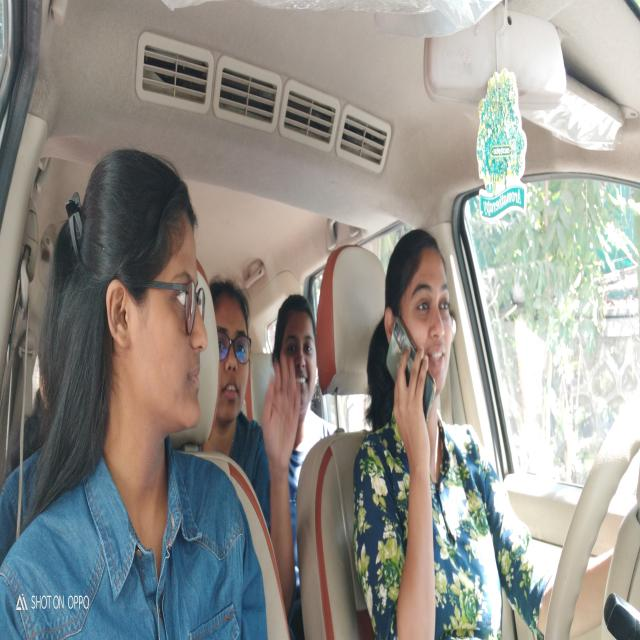mobile: (388, 325, 438, 431)
person: (62, 143, 210, 482), (384, 226, 454, 462), (275, 289, 319, 436), (215, 278, 252, 435)
